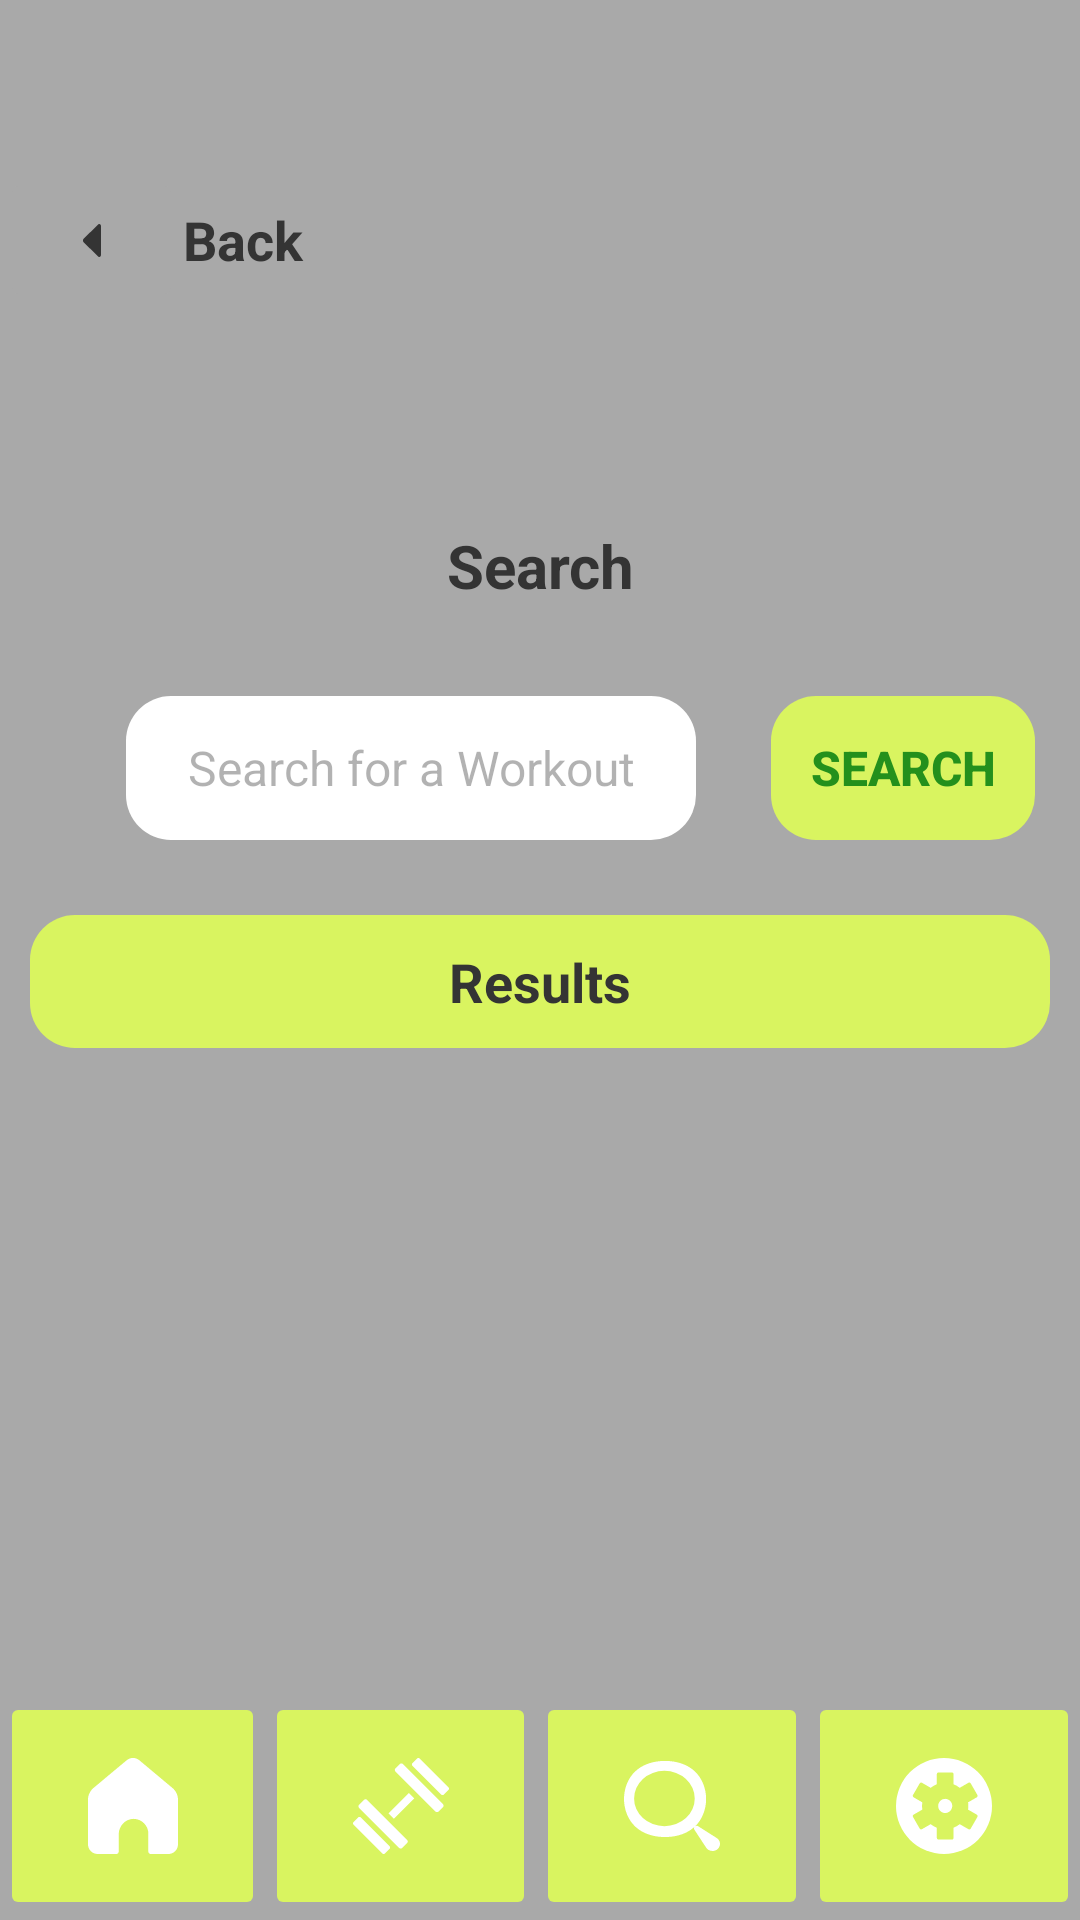

Named icons in this screenshot (1080 x 1920) and their bounding boxes, (x1, y1, x2, y2):
Go to Settings: (820, 1710, 1068, 1902)
Search for a Workout: (548, 1710, 796, 1902)
View your Workouts: (277, 1710, 524, 1902)
